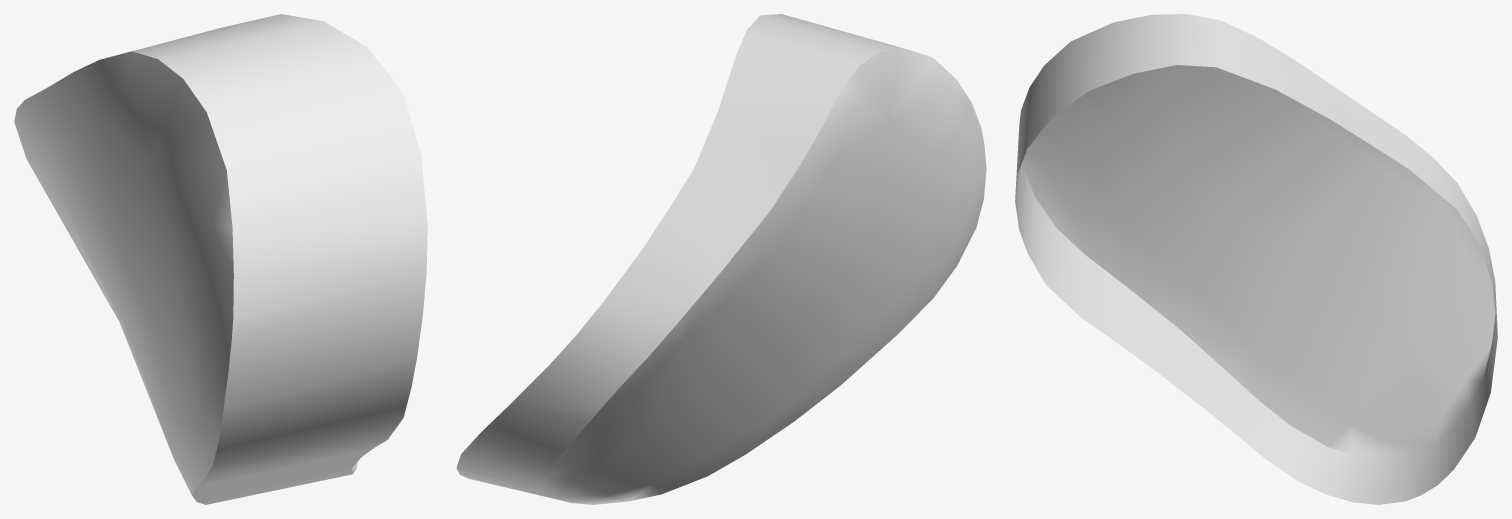
3 views of the same model, side by side, from view 1: azimuth 30°, elevation 25°; view 2: azimuth 150°, elevation 25°; view 3: azimuth 270°, elevation 25° (orthographic). The views are drawn at different scales.
Bounding box in the file's own units: 0.0152 × 0.0195 × 0.0223.
1 material, 1 textured.
